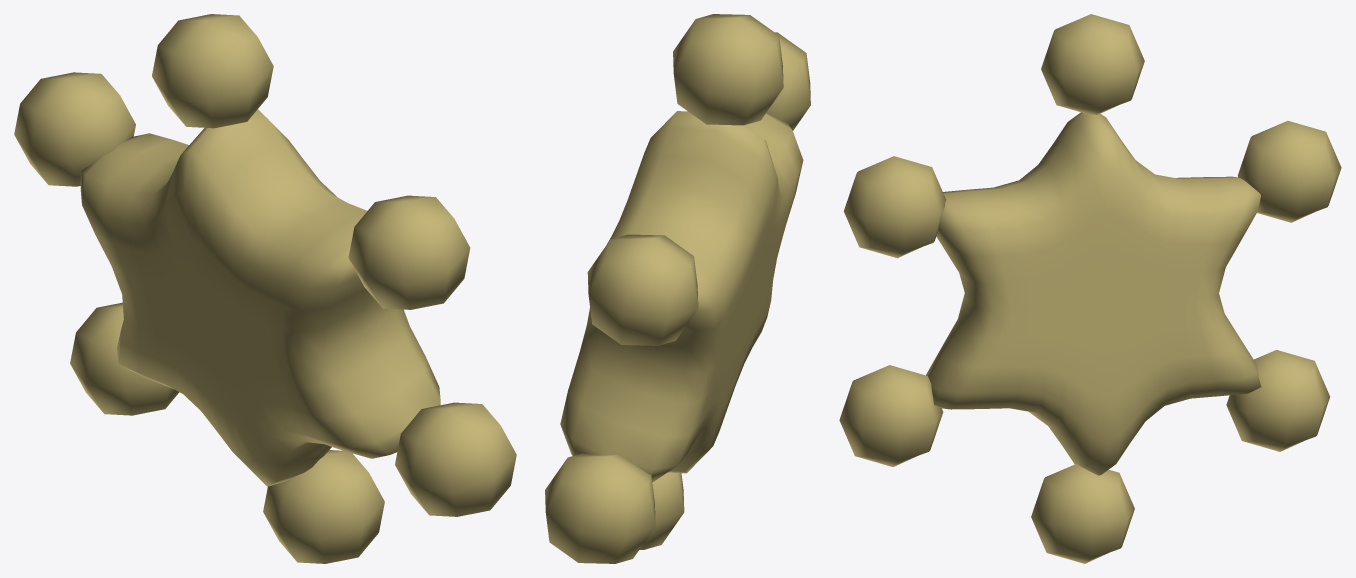
Rendered from sherif.fbx.
3 views of the same model, side by side, from view 1: azimuth 30°, elevation 25°; view 2: azimuth 150°, elevation 25°; view 3: azimuth 270°, elevation 25° (orthographic). The views are drawn at different scales.
Parts seen in each view (by area): view 1: Cube.022; view 2: Cube.022; view 3: Cube.022.
Boxes of the visible parts, <box> form: Cube.022: <box>14,14,516,563</box>; Cube.022: <box>545,14,810,563</box>; Cube.022: <box>839,14,1341,563</box>.
Bounding box in the file's own units: 7.39 × 15.62 × 14.31.
